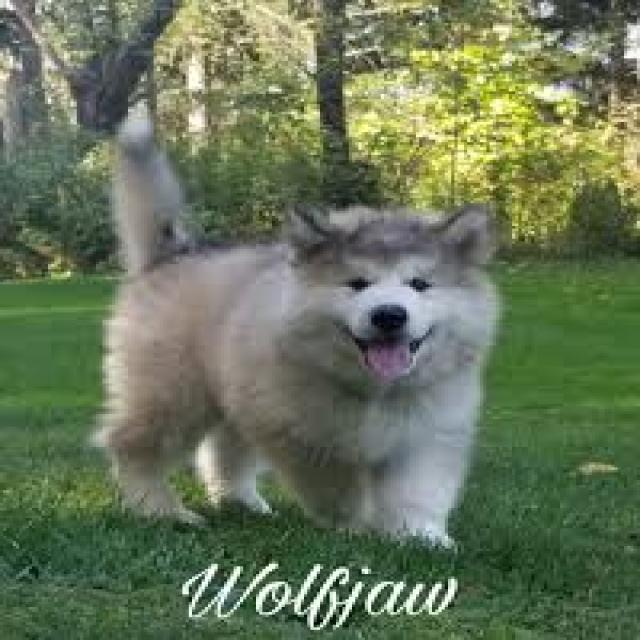ALASKAN_MALAMUTE: (81, 102, 523, 558)
